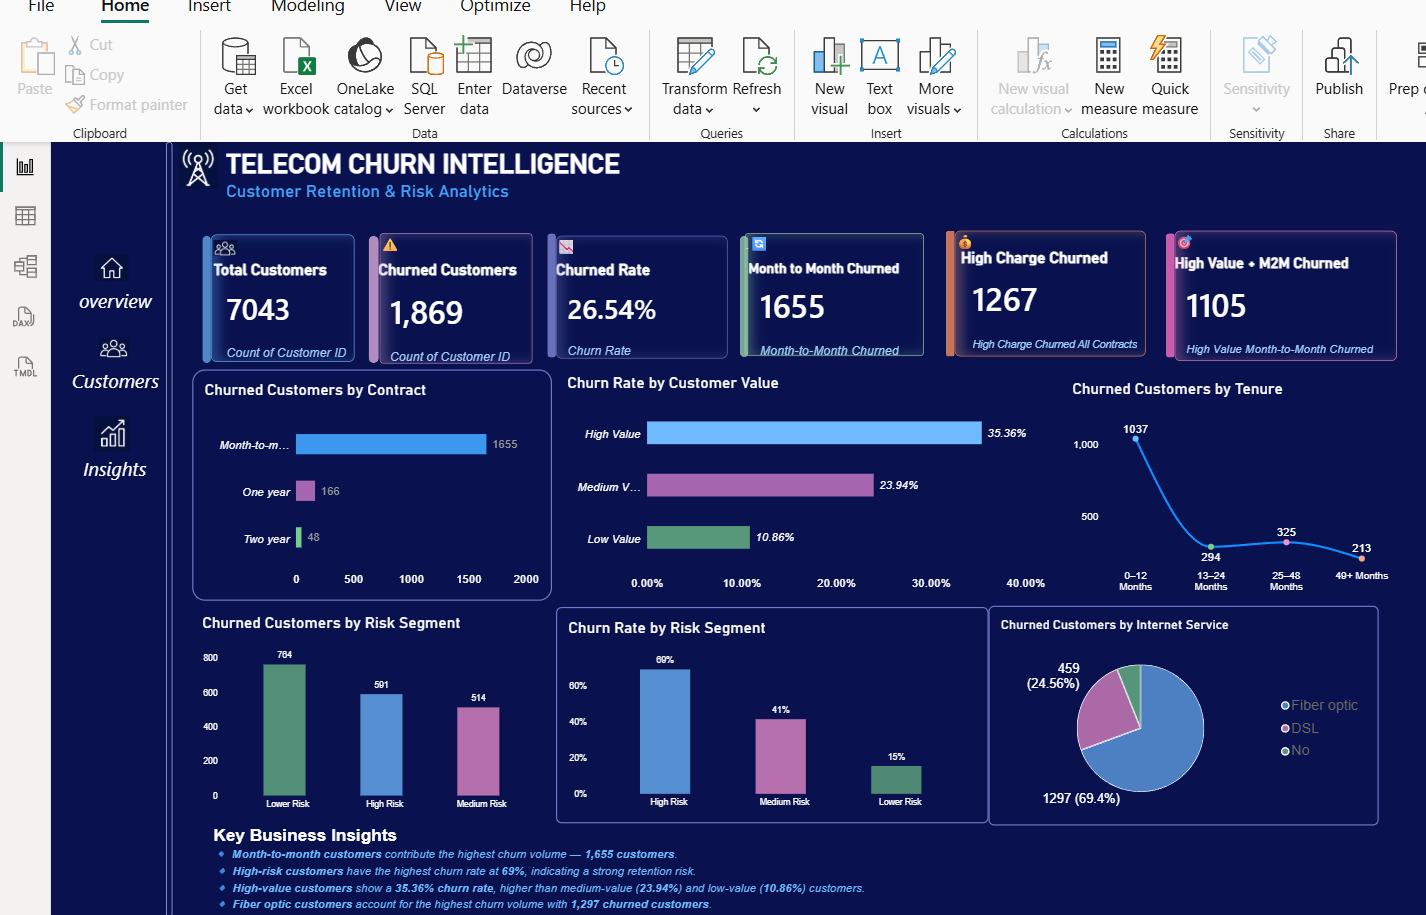

The page's visual inventory and layout, read from the dashboard file:
{"tool":"powerbi","page":{"name":"Executive Summary","canvas":[1920,1080],"ordinal":0},"visuals":[{"type":"cardVisual","title":"         Total Customers","fields":{"Data":["select","select1","CountNonNull(Telco-Customer-Churn.Customer Count)"]},"box":[227.2,165.2,216.9,146.6],"z":0},{"type":"cardVisual","title":"  Churned Customers","fields":{"Data":["CountNonNull(Telco-Customer-Churn.customerID)"]},"box":[456.5,165.2,212.7,148.7],"z":1000},{"type":"cardVisual","title":"Churned Rate","fields":{"Data":["Telco-Customer-Churn.Churn Rate"]},"box":[704.3,165.2,214.8,140.4],"z":2000},{"type":"textbox","title":"Customer Retention & Risk Analytics","box":[144.6,53.7,593.3,33.1],"z":4000},{"type":"clusteredBarChart","title":" Churn Rate by Customer Value","fields":{"Category":["Telco-Customer-Churn.Customer Value"],"Y":["Telco-Customer-Churn.Customer Value Churn %"]},"box":[704.1,308.5,700.7,334.6],"z":5000},{"type":"cardVisual","title":"Month to Month Churned","fields":{"Data":["Telco-Customer-Churn.Month-to-Month Churned2"]},"box":[972.8,165.2,243.7,142.5],"z":6000},{"type":"cardVisual","title":"   High Charge Churned","fields":{"Data":["Telco-Customer-Churn.High Charge Churned All Contracts"]},"box":[1268.2,148.7,272.6,161.1],"z":7000},{"type":"textbox","title":"TELECOM CHURN INTELLIGENCE","box":[244,8.7,597.8,54],"z":8000},{"type":"cardVisual","title":"High Value + M2M Churned","fields":{"Data":["Telco-Customer-Churn.High Value Month-to-Month Churned"]},"box":[1567.7,157,309.8,144.6],"z":9000},{"type":"clusteredBarChart","title":"Churned Customers by Contract","fields":{"Category":["Telco-Customer-Churn.Contract"],"Y":["Telco-Customer-Churn.Churned Customers"]},"box":[197,317.2,502,322.4],"z":10000},{"type":"textbox","box":[223.1,129,200.3,177.6],"z":11000},{"type":"textbox","box":[458.5,128.1,212.7,181.8],"z":12000},{"type":"textbox","box":[704.3,130.1,239.6,171.4],"z":13000},{"type":"textbox","box":[966.6,128.1,249.9,171.4],"z":14000},{"type":"textbox","box":[1259.9,123.9,266.4,175.6],"z":15000},{"type":"textbox","box":[1567.7,123.9,309.8,181.8],"z":16000},{"type":"shape","box":[210.7,130.1,12.4,177.6],"z":17000},{"type":"shape","box":[442,130.1,14.5,177.6],"z":18000},{"type":"shape","box":[691.9,128.1,12.4,173.5],"z":19000},{"type":"shape","box":[960.4,130.1,12.4,169.4],"z":20000},{"type":"shape","box":[1247.5,123.9,12.4,175.6],"z":21000},{"type":"shape","box":[1555.3,128.1,12.4,173.5],"z":22000},{"type":"lineChart","title":"Churned Customers by Tenure","fields":{"Category":["Telco-Customer-Churn.Tenure Group"],"Y":["Telco-Customer-Churn.Churned Customers"]},"box":[1408.3,317.2,484.5,329.4],"z":23000},{"type":"clusteredColumnChart","title":"Churned Customers by  Risk Segment","fields":{"Category":["Telco-Customer-Churn.Risk Segment"],"Y":["Telco-Customer-Churn.Churned Customers"]},"box":[195.2,643.1,508.9,306.8],"z":24000},{"type":"clusteredColumnChart","title":" Churn Rate by Risk Segment","fields":{"Y":["Telco-Customer-Churn.Risk Segment Churn Rate"],"Category":["Telco-Customer-Churn.Risk Segment"]},"box":[704.1,648.4,603.1,301.5],"z":25000},{"type":"pieChart","title":"Churned Customers by Internet Service","fields":{"Category":["Telco-Customer-Churn.InternetService"],"Y":["Telco-Customer-Churn.Churned Customers"]},"box":[1307.2,646.6,543.8,306.8],"z":26000},{"type":"textbox","box":[226.6,953.4,1511.1,127.2],"z":27000},{"type":"textbox","box":[10.5,202.2,158.6,34.9],"z":28000},{"type":"textbox","box":[26.1,313.7,127.2,85.4],"z":29000},{"type":"textbox","box":[0,437.5,177.8,64.5],"z":30000},{"type":"shape","box":[160.3,0,8.7,1080.6],"z":31000},{"type":"image","box":[59.3,148.1,48.8,54],"z":32000},{"type":"image","box":[59.3,376.5,50.5,61],"z":33000},{"type":"image","box":[177.8,0,55.8,68],"z":34000},{"type":"image","box":[66.2,259.7,43.6,54],"z":35000},{"type":"actionButton","box":[26.1,148.1,118.5,62.7],"z":36000},{"type":"actionButton","box":[34.9,259.7,109.8,54],"z":37000},{"type":"actionButton","box":[34.9,376.5,99.3,61],"z":38000},{"type":"image","box":[226.6,123.7,33.1,47.1],"z":39000}]}

Visuals, with their boxes on the page's 1920x1080 design canvas (x1, y1, x2, y2). These are canvas units, not pixel positions in the 1426x915 screenshot, which may show the page scaled, cropped or inside an application window:
"         Total Customers" cardVisual: (227, 165, 444, 312)
"  Churned Customers" cardVisual: (456, 165, 669, 314)
"Churned Rate" cardVisual: (704, 165, 919, 306)
"Customer Retention & Risk Analytics" textbox: (145, 54, 738, 87)
" Churn Rate by Customer Value" clusteredBarChart: (704, 308, 1405, 643)
"Month to Month Churned" cardVisual: (973, 165, 1216, 308)
"   High Charge Churned" cardVisual: (1268, 149, 1541, 310)
"TELECOM CHURN INTELLIGENCE" textbox: (244, 9, 842, 63)
"High Value + M2M Churned" cardVisual: (1568, 157, 1878, 302)
"Churned Customers by Contract" clusteredBarChart: (197, 317, 699, 640)
textbox: (223, 129, 423, 307)
textbox: (458, 128, 671, 310)
textbox: (704, 130, 944, 302)
textbox: (967, 128, 1216, 300)
textbox: (1260, 124, 1526, 300)
textbox: (1568, 124, 1878, 306)
shape: (211, 130, 223, 308)
shape: (442, 130, 456, 308)
shape: (692, 128, 704, 302)
shape: (960, 130, 973, 300)
shape: (1248, 124, 1260, 300)
shape: (1555, 128, 1568, 302)
"Churned Customers by Tenure" lineChart: (1408, 317, 1893, 647)
"Churned Customers by  Risk Segment" clusteredColumnChart: (195, 643, 704, 950)
" Churn Rate by Risk Segment" clusteredColumnChart: (704, 648, 1307, 950)
"Churned Customers by Internet Service" pieChart: (1307, 647, 1851, 953)
textbox: (227, 953, 1738, 1081)
textbox: (10, 202, 169, 237)
textbox: (26, 314, 153, 399)
textbox: (0, 438, 178, 502)
shape: (160, 0, 169, 1081)
image: (59, 148, 108, 202)
image: (59, 376, 110, 438)
image: (178, 0, 234, 68)
image: (66, 260, 110, 314)
actionButton: (26, 148, 145, 211)
actionButton: (35, 260, 145, 314)
actionButton: (35, 376, 134, 438)
image: (227, 124, 260, 171)
